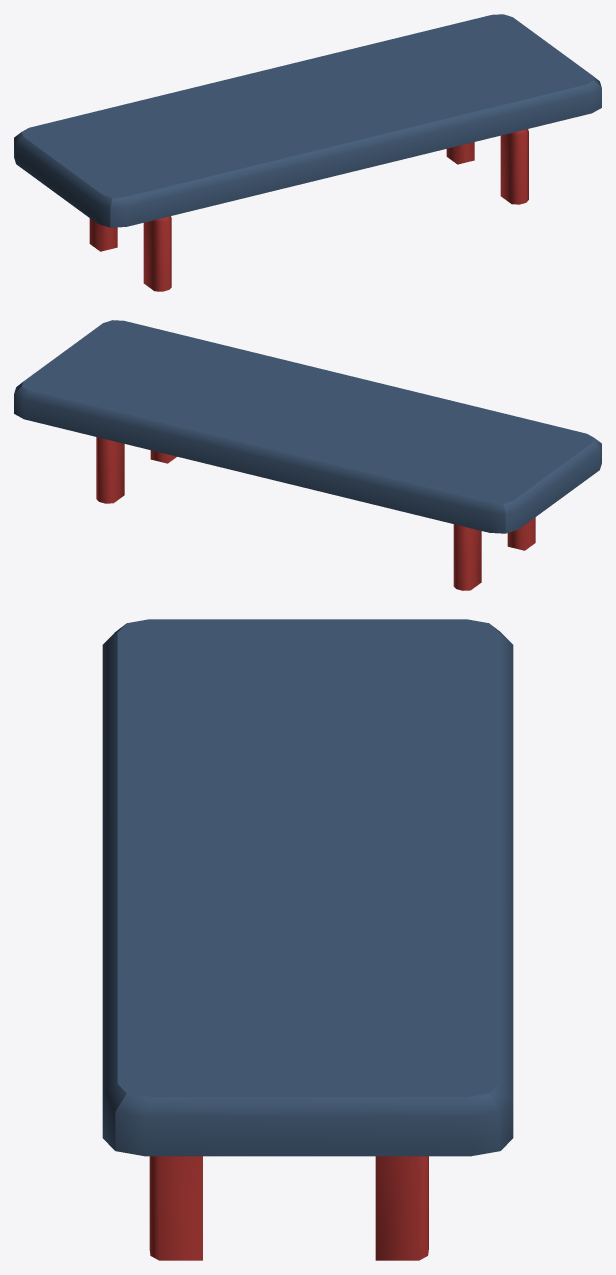
Rendered from SM_Bench.fbx.
3 renders of one model, top to bottom at view 1: azimuth 30°, elevation 25°; view 2: azimuth 150°, elevation 25°; view 3: azimuth 270°, elevation 25°, orthographic. The views are drawn at different scales.
Visible parts, largest first — view 1: SM_Bench; view 2: SM_Bench; view 3: SM_Bench.
Part boxes in pixels (left/top/right/bottom): SM_Bench: left=14, top=14, right=601, bottom=291; SM_Bench: left=14, top=320, right=601, bottom=590; SM_Bench: left=102, top=619, right=513, bottom=1260.
Size of the model in its own units: 193 by 40.87 by 68.18.
